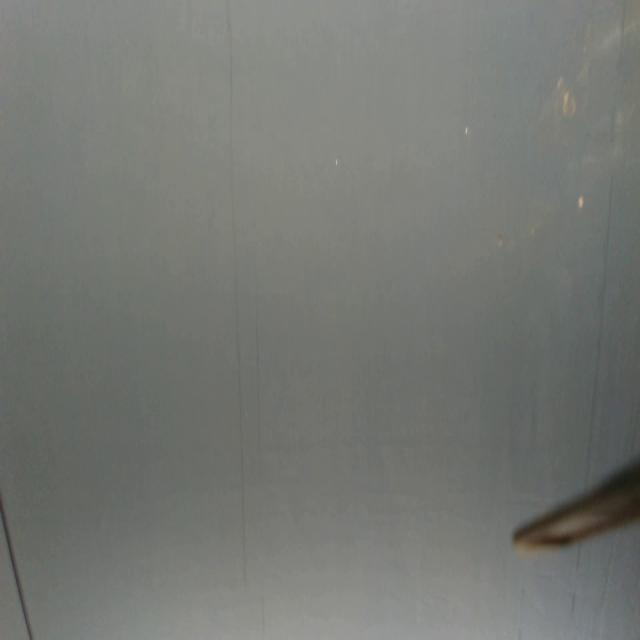crease: (586, 0, 628, 466), (225, 0, 247, 583), (0, 497, 34, 639), (251, 276, 264, 485)
hole: (576, 192, 586, 215), (460, 124, 471, 138), (333, 155, 341, 170)
